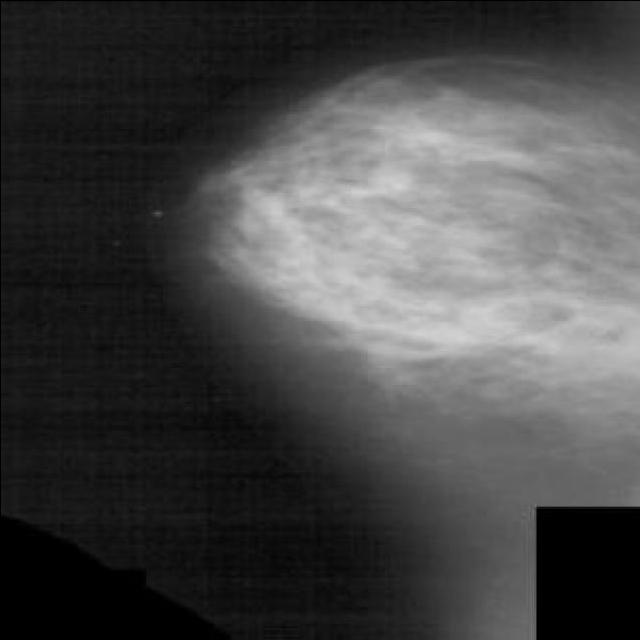tumor: (282, 84, 546, 366)
